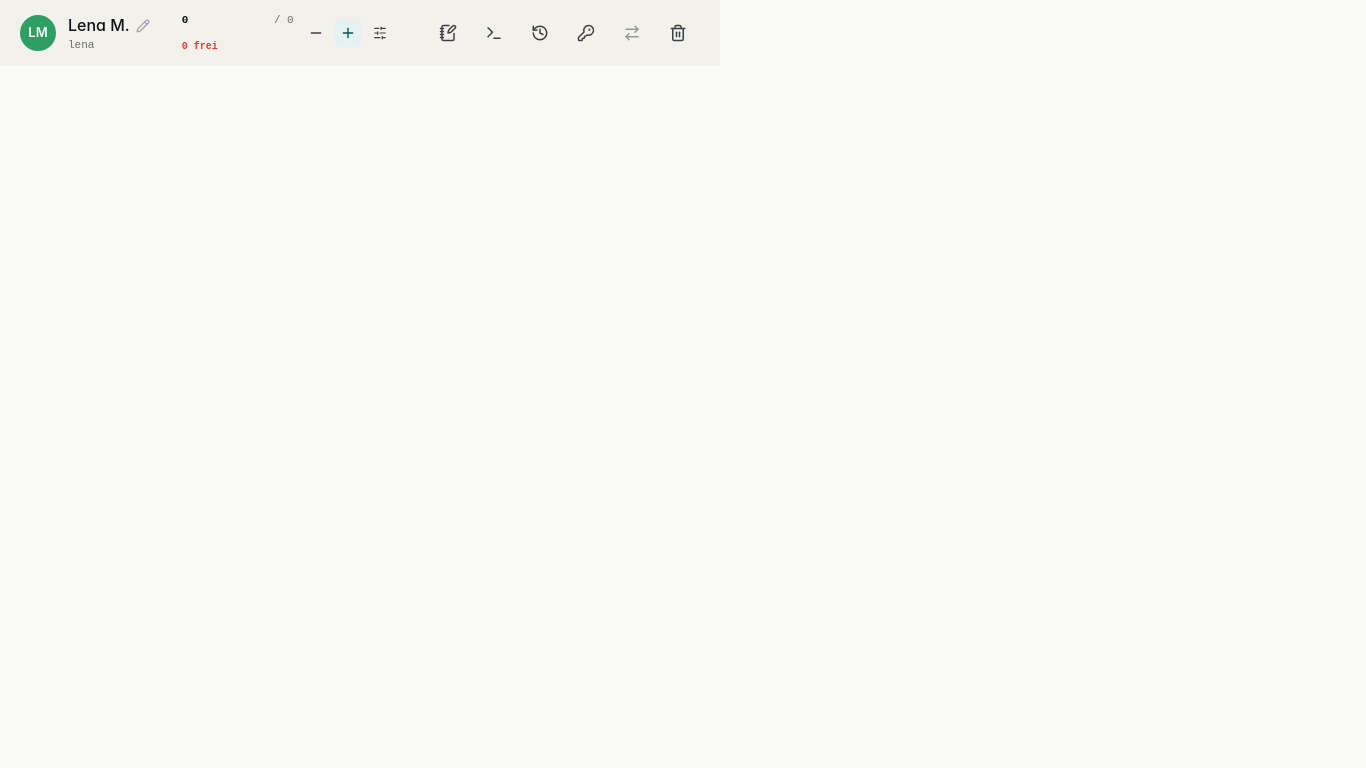
Test: StudentRow — the way in › the row opens the drawer itself, so no parent has to hold its state
Expected: the element "Aktuelle Programme" is not shown
Click the button named "Programme · Abgaben" at (494, 33), box [472,17,516,49]
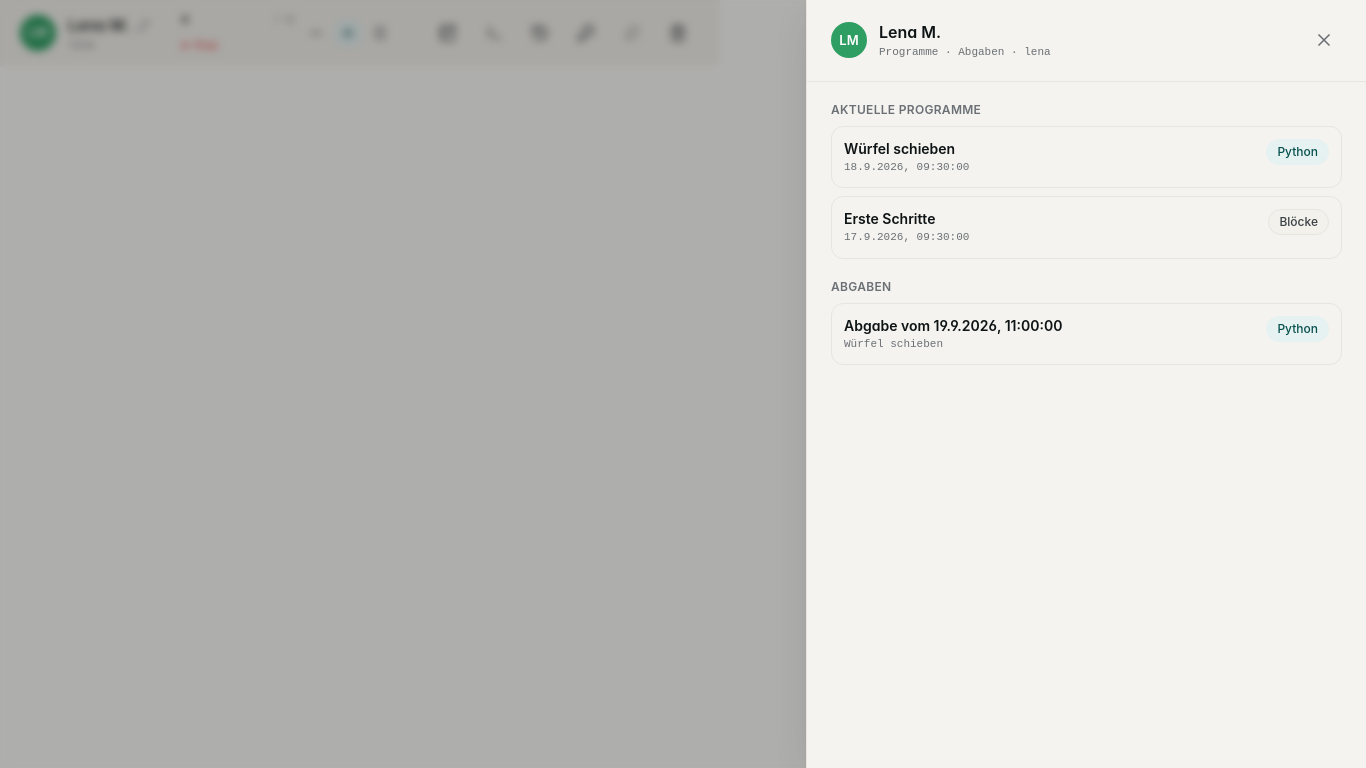
Now the element "Aktuelle Programme" is shown, box [831,102,1342,258]
